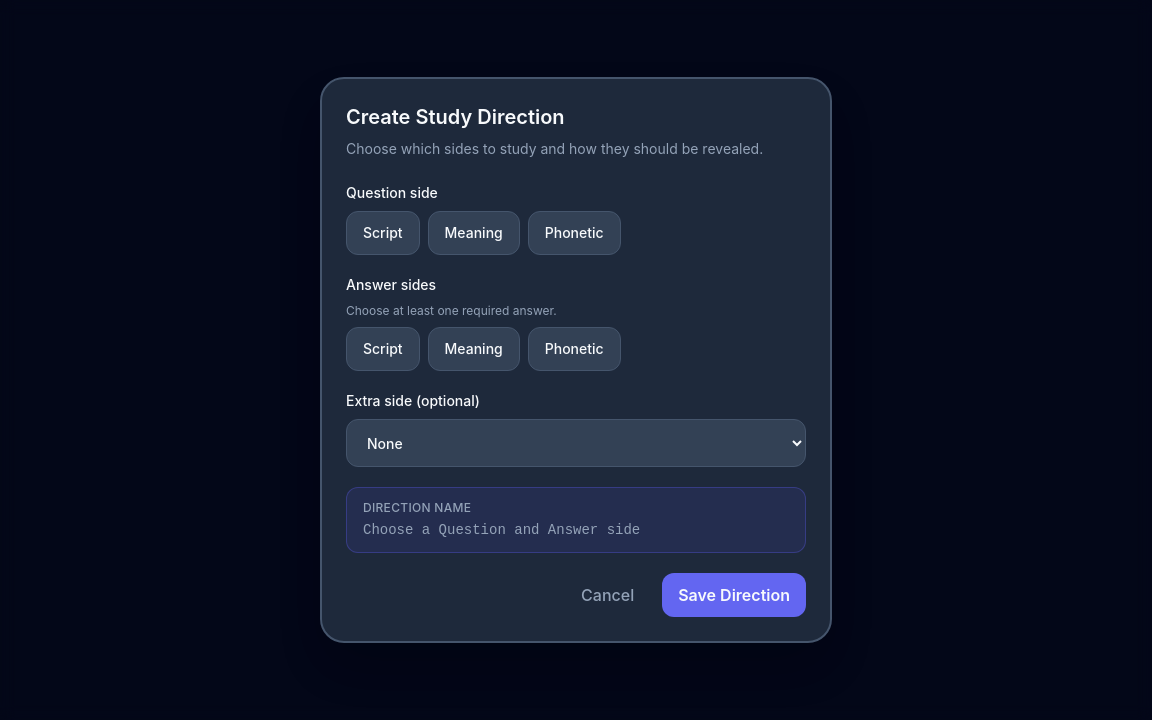
Scenario: DirectionDefinition › requires a question and answer and prevents assigning a side twice
Submit the form, box [320, 77, 832, 643]
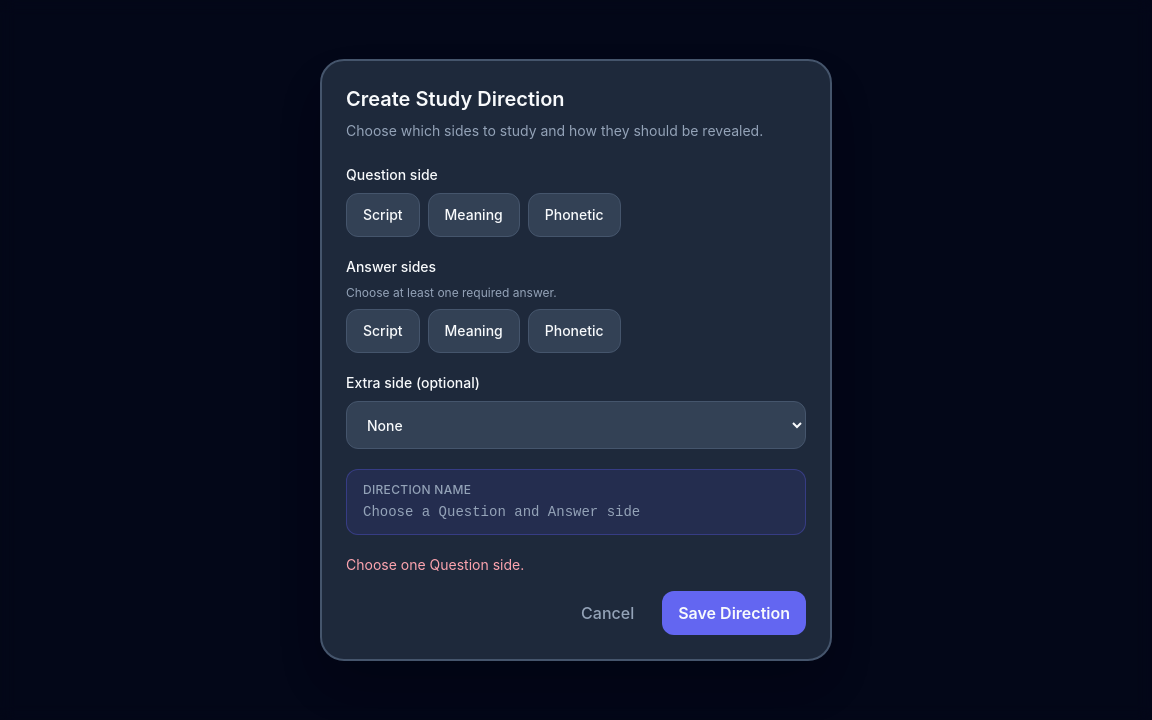
Now the text "Choose one Question side." is shown, box [346, 556, 524, 573]
Click the 1st button "Script" at (383, 215), box [346, 193, 420, 237]
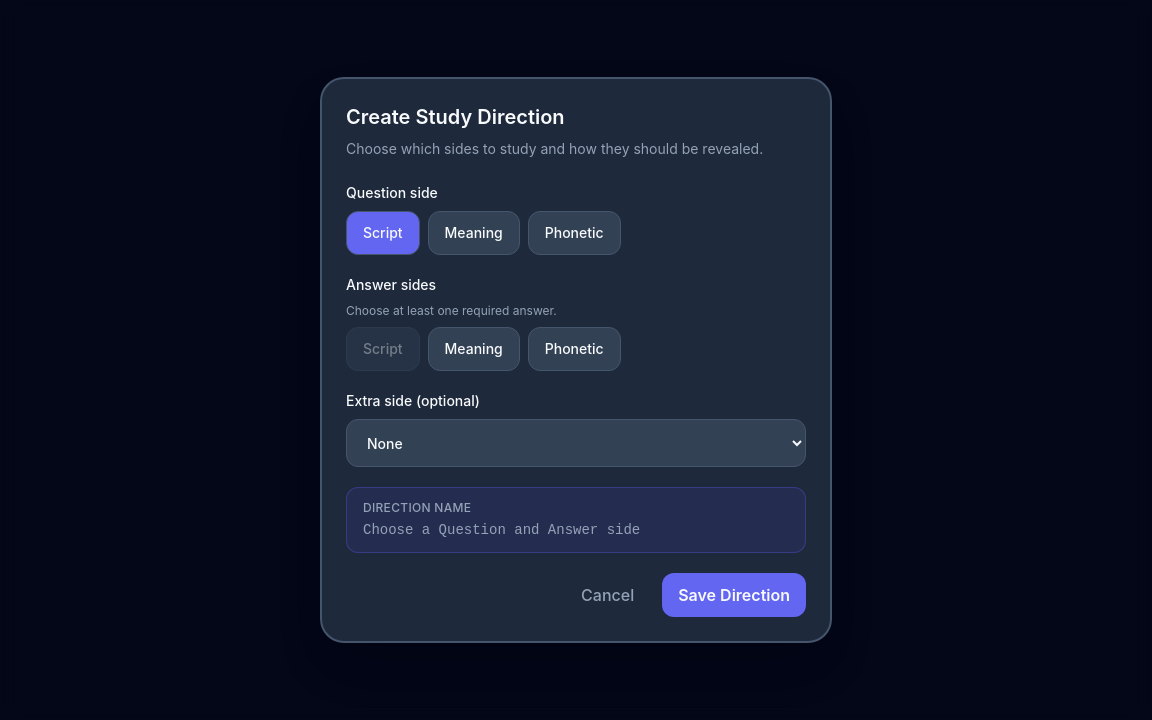
Now the button "Script" below "Choose at least one required answer." is disabled, box [346, 327, 420, 371]
Submit the form, box [320, 77, 832, 643]
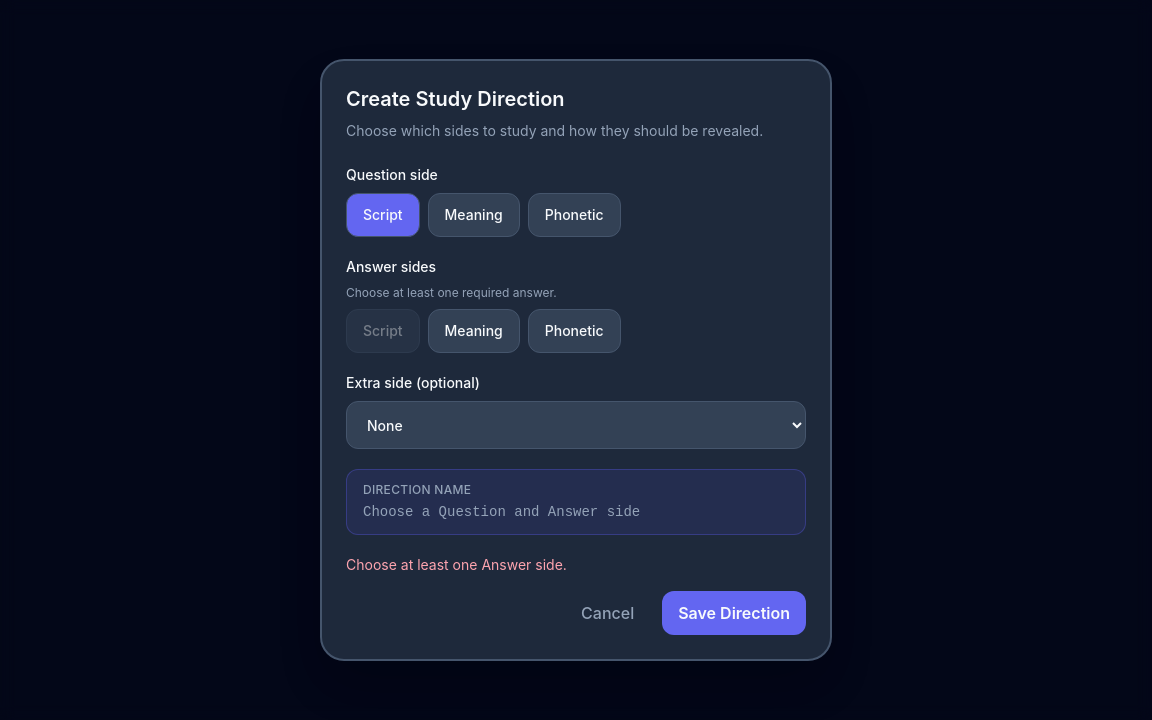
Now the text "Choose at least one Answer side." is shown, box [346, 556, 567, 573]
